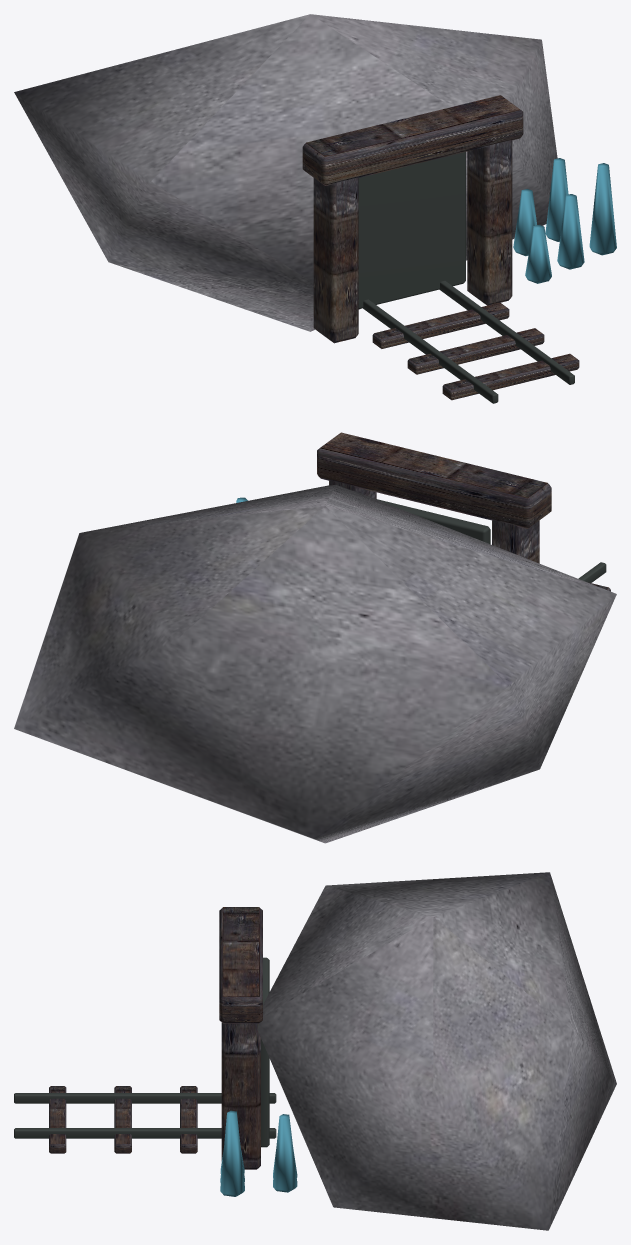
Rendered from env-site-mine-mobile.glb.
3 renders of one model, top to bottom at view 1: azimuth 30°, elevation 25°; view 2: azimuth 150°, elevation 25°; view 3: azimuth 270°, elevation 25°, orthographic. The views are drawn at different scales.
Visible parts, largest first — view 1: site mine · authored textured miniature; view 2: site mine · authored textured miniature; view 3: site mine · authored textured miniature.
Part boxes in pixels (x1,y1,x2,y2): site mine · authored textured miniature: [14, 14, 616, 403]; site mine · authored textured miniature: [14, 432, 616, 843]; site mine · authored textured miniature: [14, 872, 616, 1230].
Size of the model in its own units: 1.15 by 0.7522 by 1.38.
Materials: 4 (2 with a texture image).
